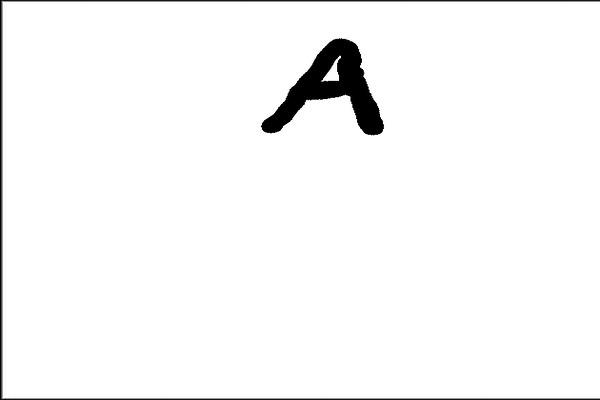A: (251, 27, 393, 145)
